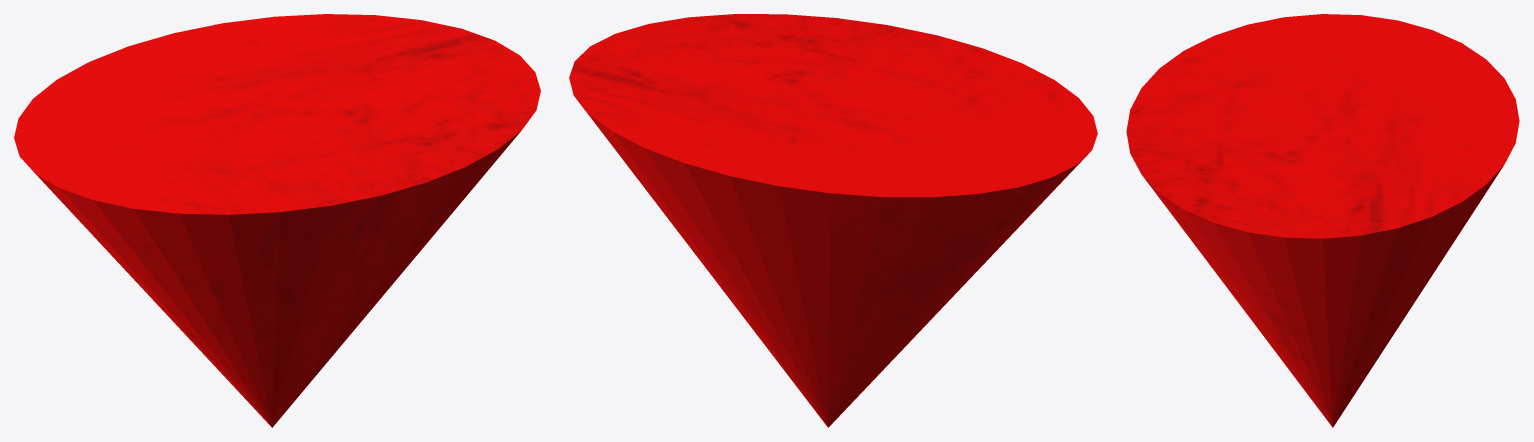
The model's file is asi.fbx.
The picture shows the model from 3 angles, left to right: view 1: azimuth 30°, elevation 25°; view 2: azimuth 150°, elevation 25°; view 3: azimuth 270°, elevation 25°; orthographic projection. The views are drawn at different scales.
Parts seen in each view (by area): view 1: 球.004; view 2: 球.004; view 3: 球.004.
Part boxes in pixels (box(x1,y1,x2,y2)): 球.004: box(14, 14, 540, 427); 球.004: box(569, 14, 1097, 427); 球.004: box(1126, 14, 1519, 427).
Bounding box in the file's own units: 131 × 83.23 × 96.63.
